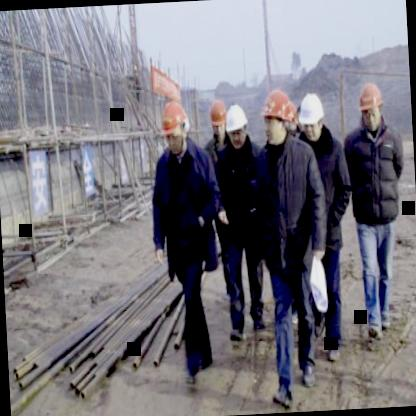helmet: (261, 86, 296, 146), (158, 97, 190, 154), (356, 78, 385, 132), (298, 90, 327, 140), (207, 96, 232, 145), (224, 101, 248, 149)
